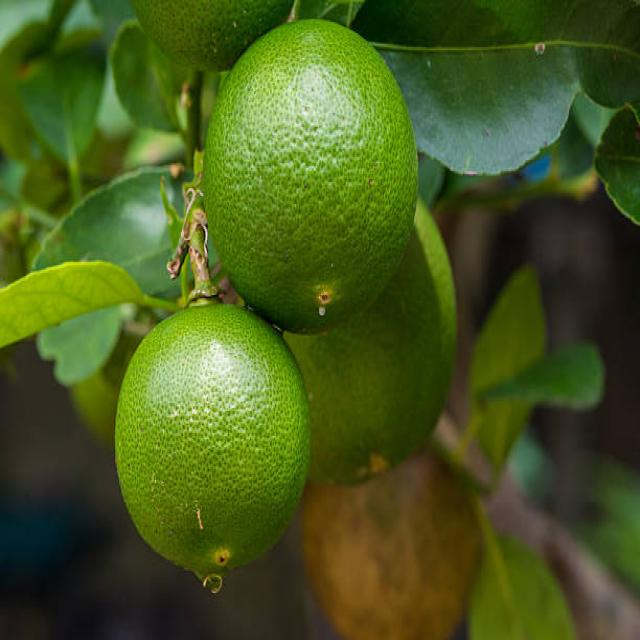Unripe: (202, 15, 421, 337), (115, 298, 312, 584)
